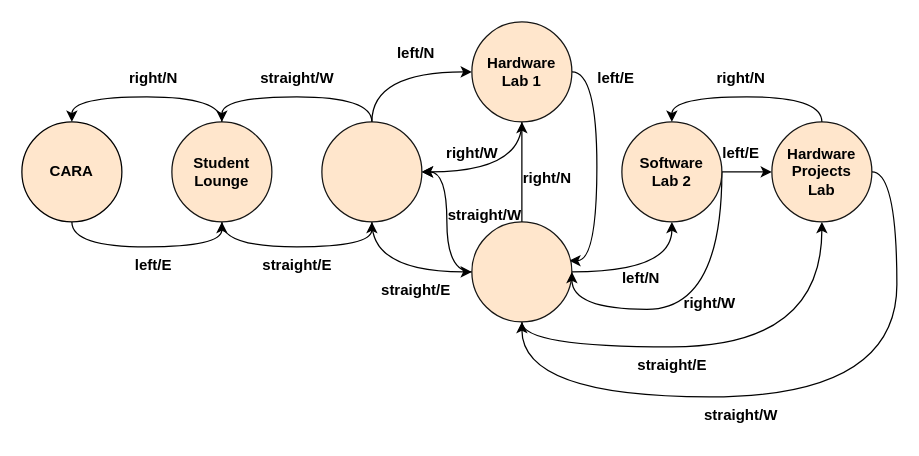
This 919x456 diagram has some shape labels left out. The box of each missing label's shape, as (x1, y1, x2, y2) in pixels:
Hardware Lab 2: (471, 221, 572, 322)
Software Lab 1: (321, 121, 422, 222)
